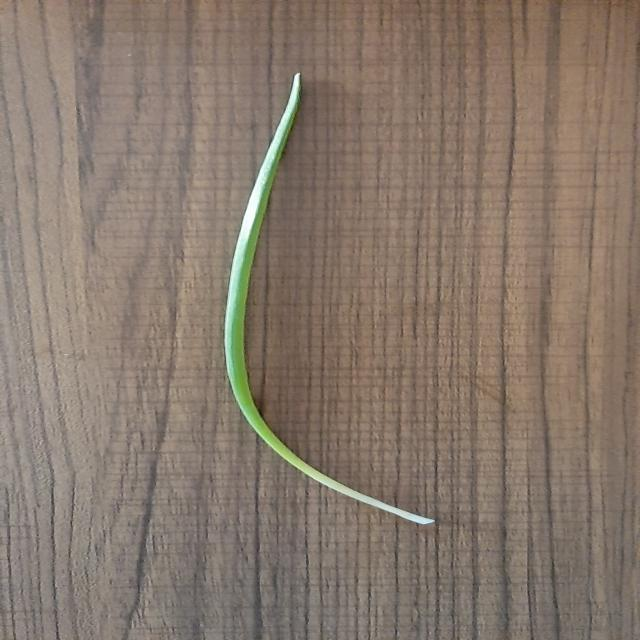onion: (225, 74, 434, 525)
